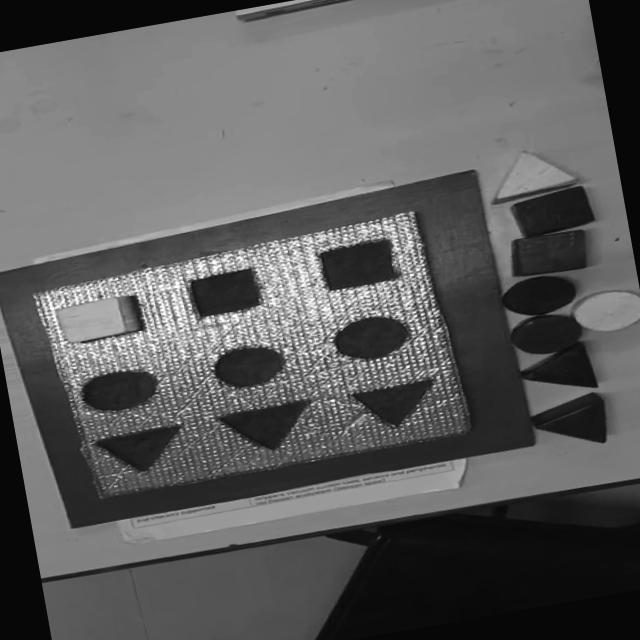bcircle: (498, 270, 580, 321)
bcube: (506, 183, 596, 240)
btriangle: (517, 341, 599, 400)
mtcircle: (328, 311, 414, 366), (75, 364, 161, 418), (208, 340, 288, 394)
mtcube: (316, 237, 400, 294), (187, 266, 266, 320)
mttriangle: (211, 397, 318, 461), (88, 422, 186, 482), (346, 378, 442, 437)
rcircle: (507, 308, 585, 359)
rcube: (506, 225, 594, 281)
rtriangle: (528, 390, 612, 454)
wb: (26, 206, 478, 507)
ycircle: (566, 285, 640, 341)
ycube: (53, 292, 144, 348)
ytriangle: (483, 144, 581, 206)
